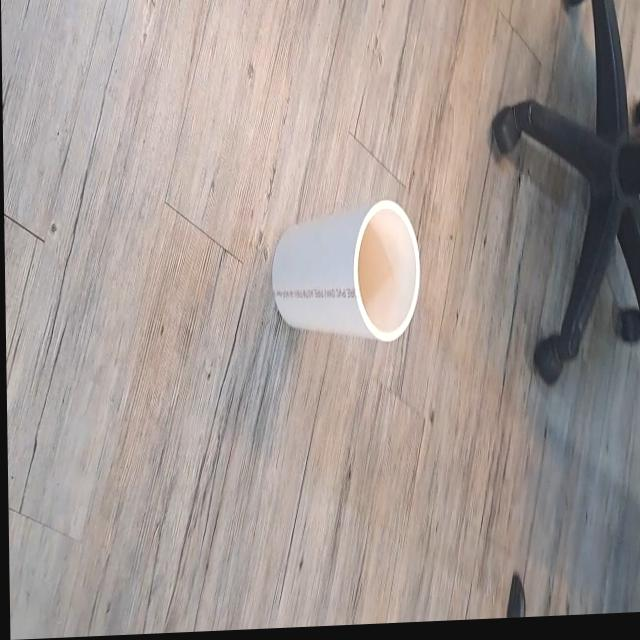CORAL: (262, 189, 427, 360)
